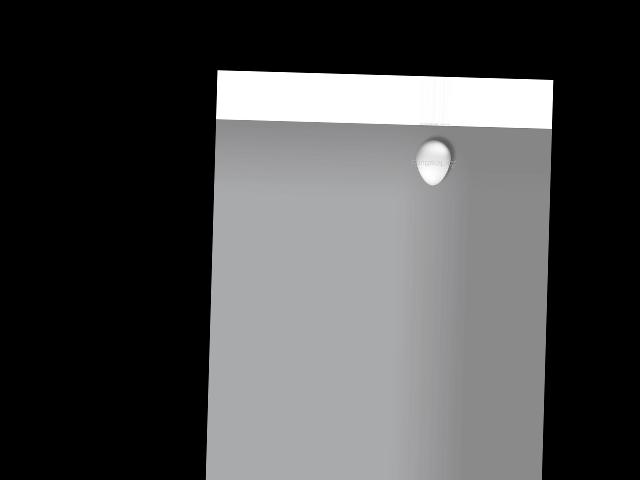egg: (415, 140, 451, 186)
